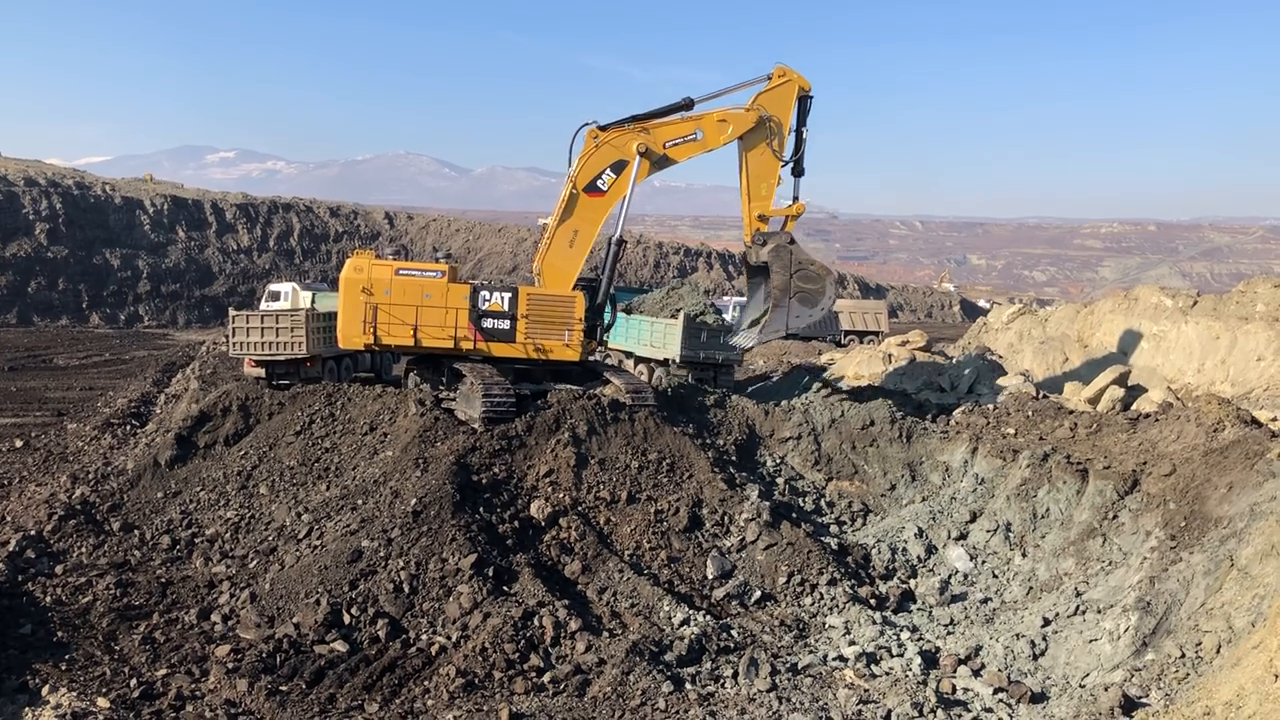empty: (726, 237, 840, 349)
